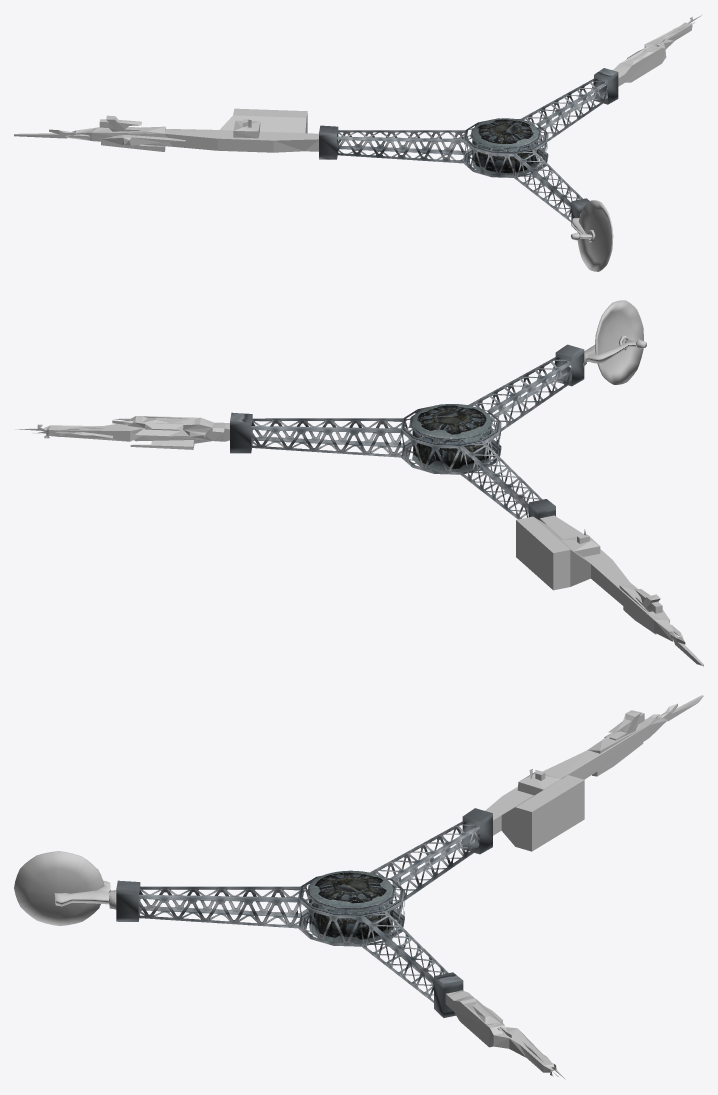
File: CommArray.fbx
The picture shows the model from 3 angles, top to bottom: view 1: azimuth 30°, elevation 25°; view 2: azimuth 150°, elevation 25°; view 3: azimuth 270°, elevation 25°; orthographic projection. The views are drawn at different scales.
Parts seen in each view (by area): view 1: CommArray.001, CommArrayAnt_LOD0; view 2: CommArray.001, CommArrayAnt_LOD0; view 3: CommArray.001, CommArrayAnt_LOD0.
Boxes of the visible parts, left/top/right/bottom form: CommArray.001: left=319, top=68, right=618, bottom=242; CommArrayAnt_LOD0: left=14, top=15, right=701, bottom=271; CommArray.001: left=230, top=335, right=628, bottom=520; CommArrayAnt_LOD0: left=14, top=300, right=703, bottom=666; CommArray.001: left=109, top=808, right=492, bottom=1017; CommArrayAnt_LOD0: left=14, top=695, right=703, bottom=1079.
Size of what is drawn, in the model's own units: 2983 by 290 by 2224.
